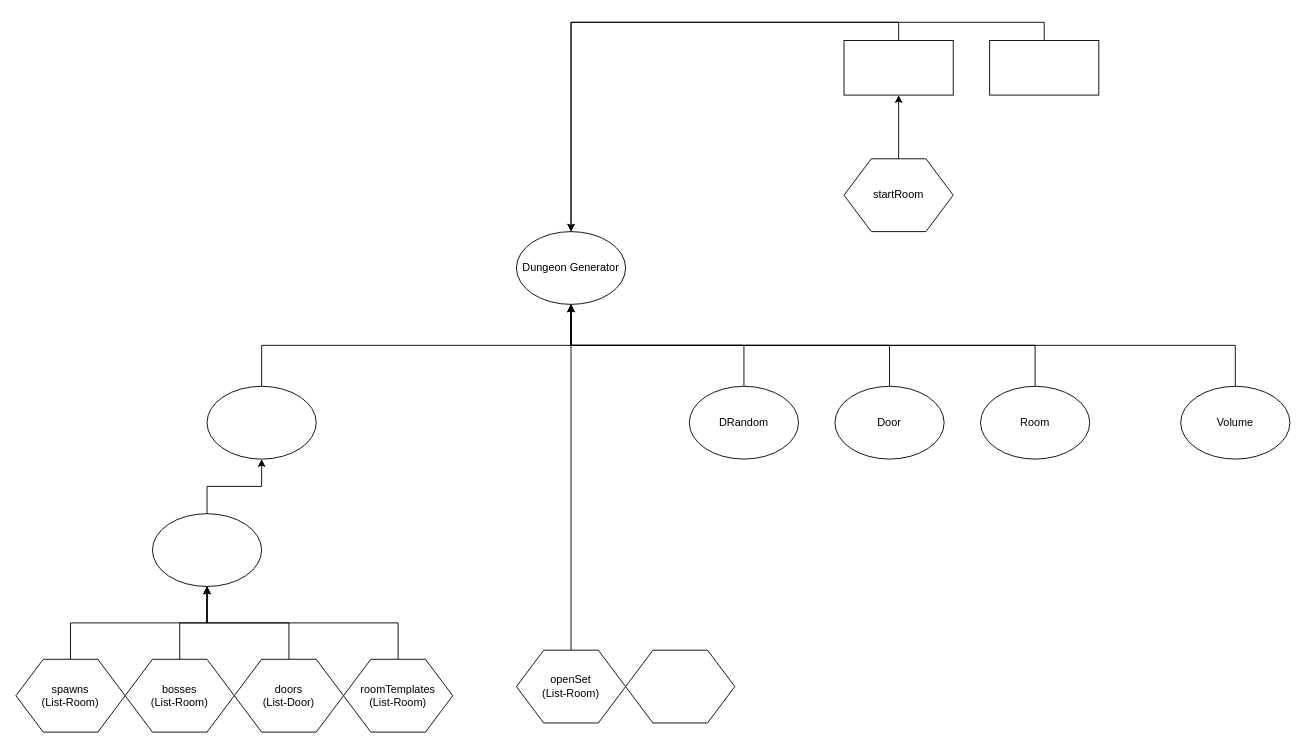
The diagram is 1306 pixels wide and 748 high, and some of its shapes have lost their labels. The shapes that lost their labels are listed below. From the top down, each one's box as (x1, y1, x2, y2) in pixels, then its label:
(843, 40, 953, 95): StartGeneration
(989, 40, 1099, 95): GenerateNextRoom
(206, 385, 316, 459): DungeonData
(152, 513, 262, 586): DungeonSet
(625, 649, 735, 723): rooms (List-Room)
